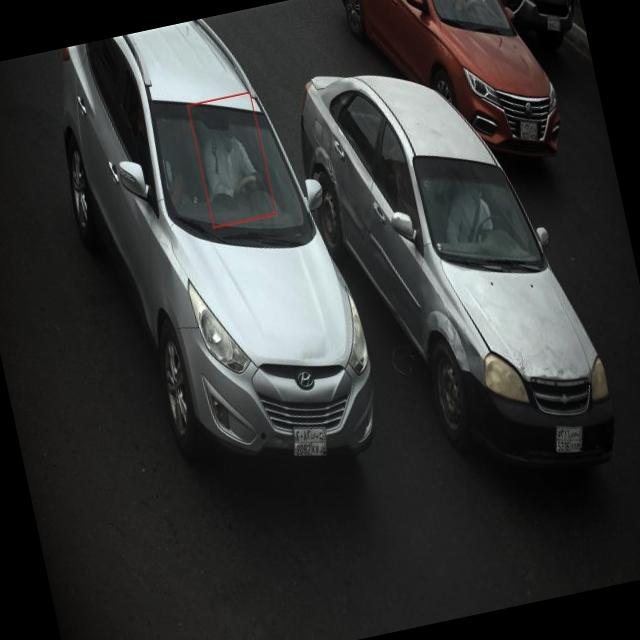person_without_seatbelt: (190, 112, 279, 228)
